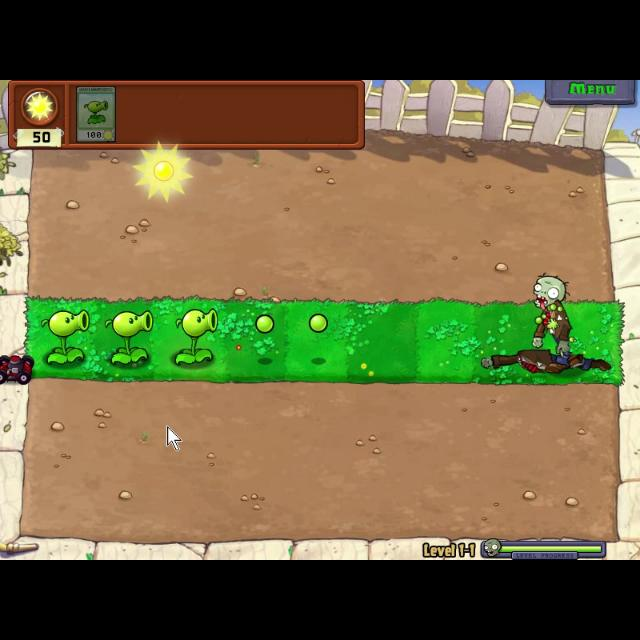Garden: (22, 293, 626, 392)
Menu Button: (544, 80, 638, 104)
Mower: (0, 352, 34, 386)
Peashooter: (76, 82, 116, 142)
Peashooter Seed: (100, 307, 158, 367), (36, 306, 92, 368), (173, 307, 220, 368)
Seed Panel: (5, 80, 367, 152)
Sun: (132, 138, 194, 206)
Zombie: (526, 270, 586, 376)
